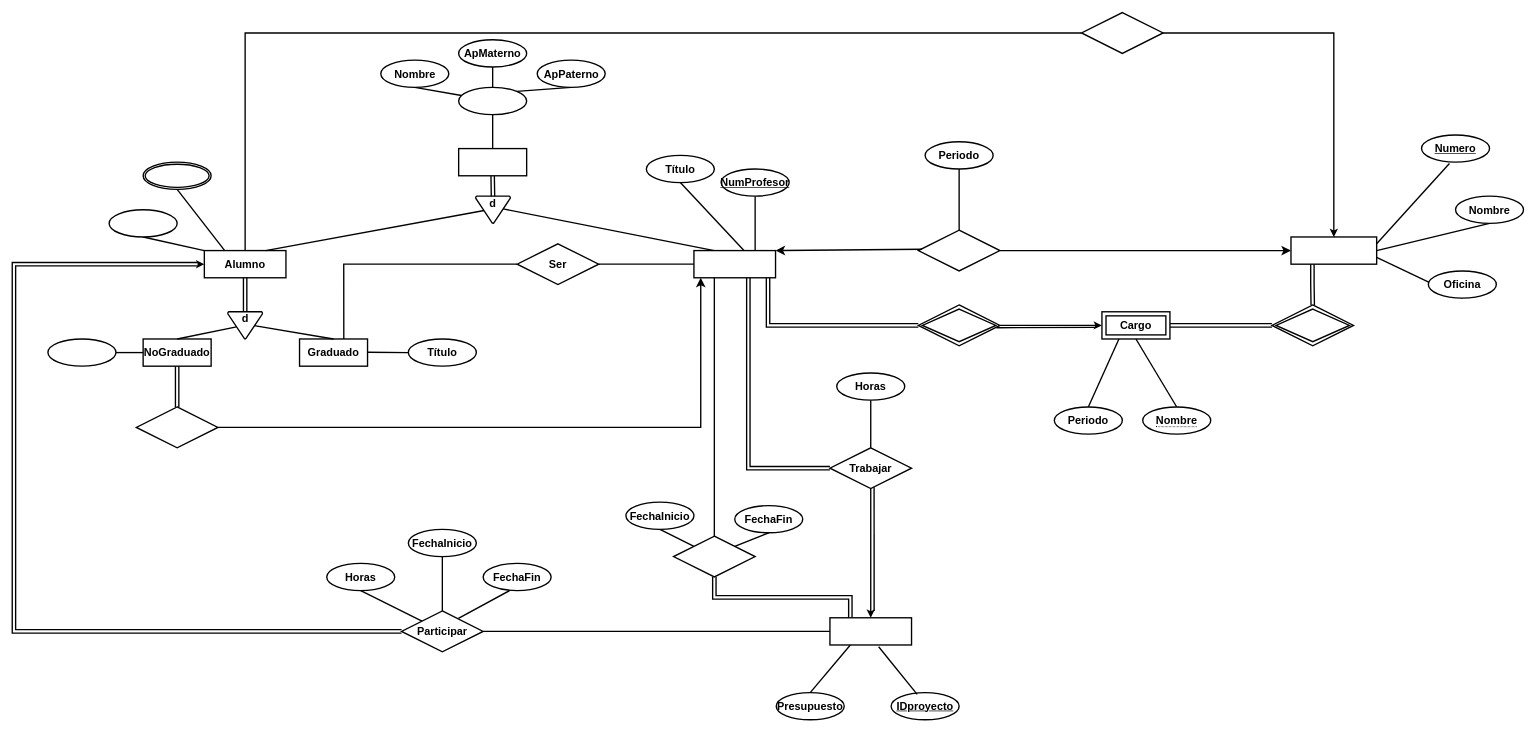
The diagram is 1536 pixels wide and 732 high, and some of its shapes have lost their labels. Each missing label, with the centre of its shape:
Administrar: the point at 714,556
Adscribir: the point at 1122,33
Asignar: the point at 176,427
Departamento: the point at 1333,250
Dirigir: the point at 958,250
Historial: the point at 81,352
NombreC: the point at 492,100
NumCuenta: the point at 142,223
Ocupar: the point at 1312,325
Persona: the point at 492,162
Profesor: the point at 734,264
Proyecto: the point at 870,631
Teléfono: the point at 176,175
Tener: the point at 958,325
